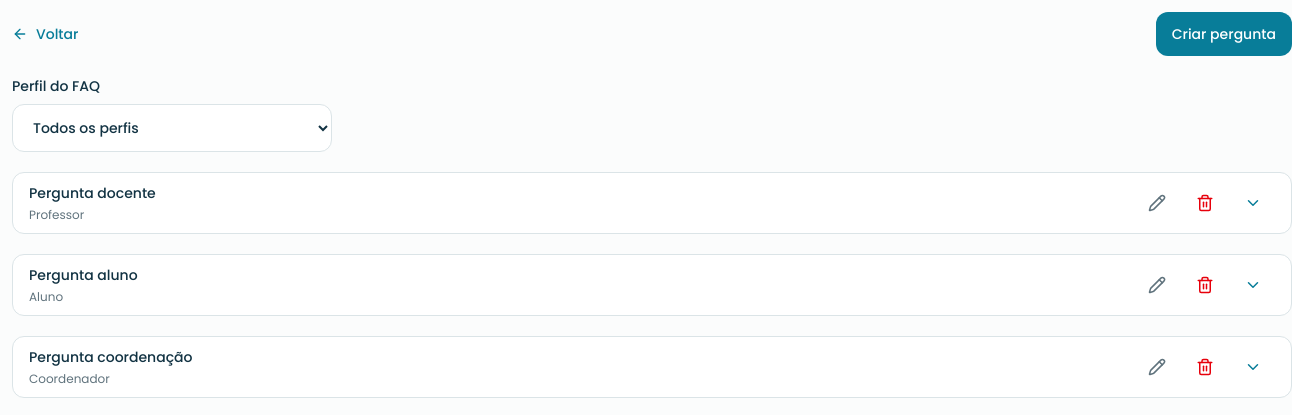
admin filtra por perfil e tem edição ao lado de cada pergunta
Select "Coordenador" in the dropdown labelled "Perfil do FAQ": [172, 128] box [12,104,332,152]
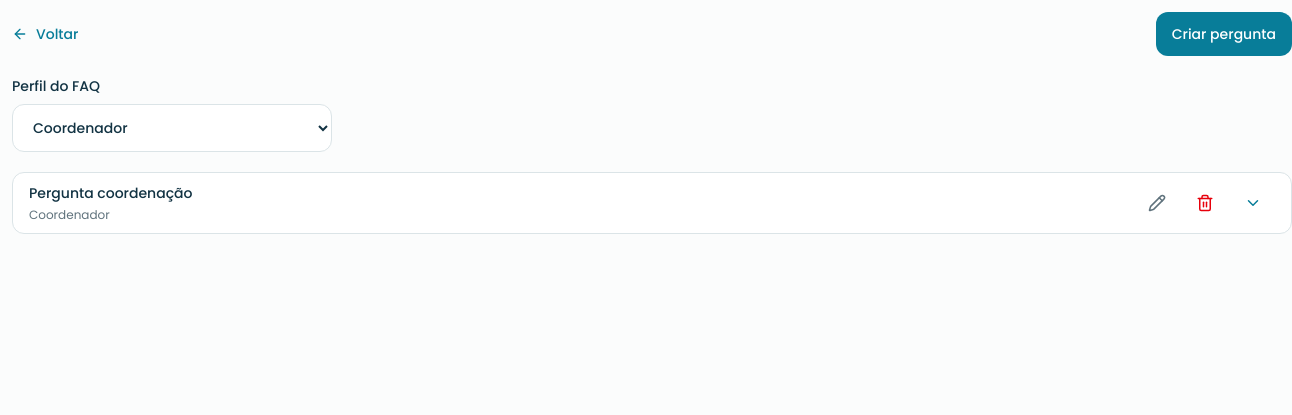
expect the text "Pergunta coordenação" is shown: met, box [29,183,192,203]
expect the heading "Pergunta docente" is gone: met
expect the heading "Pergunta aluno" is gone: met
